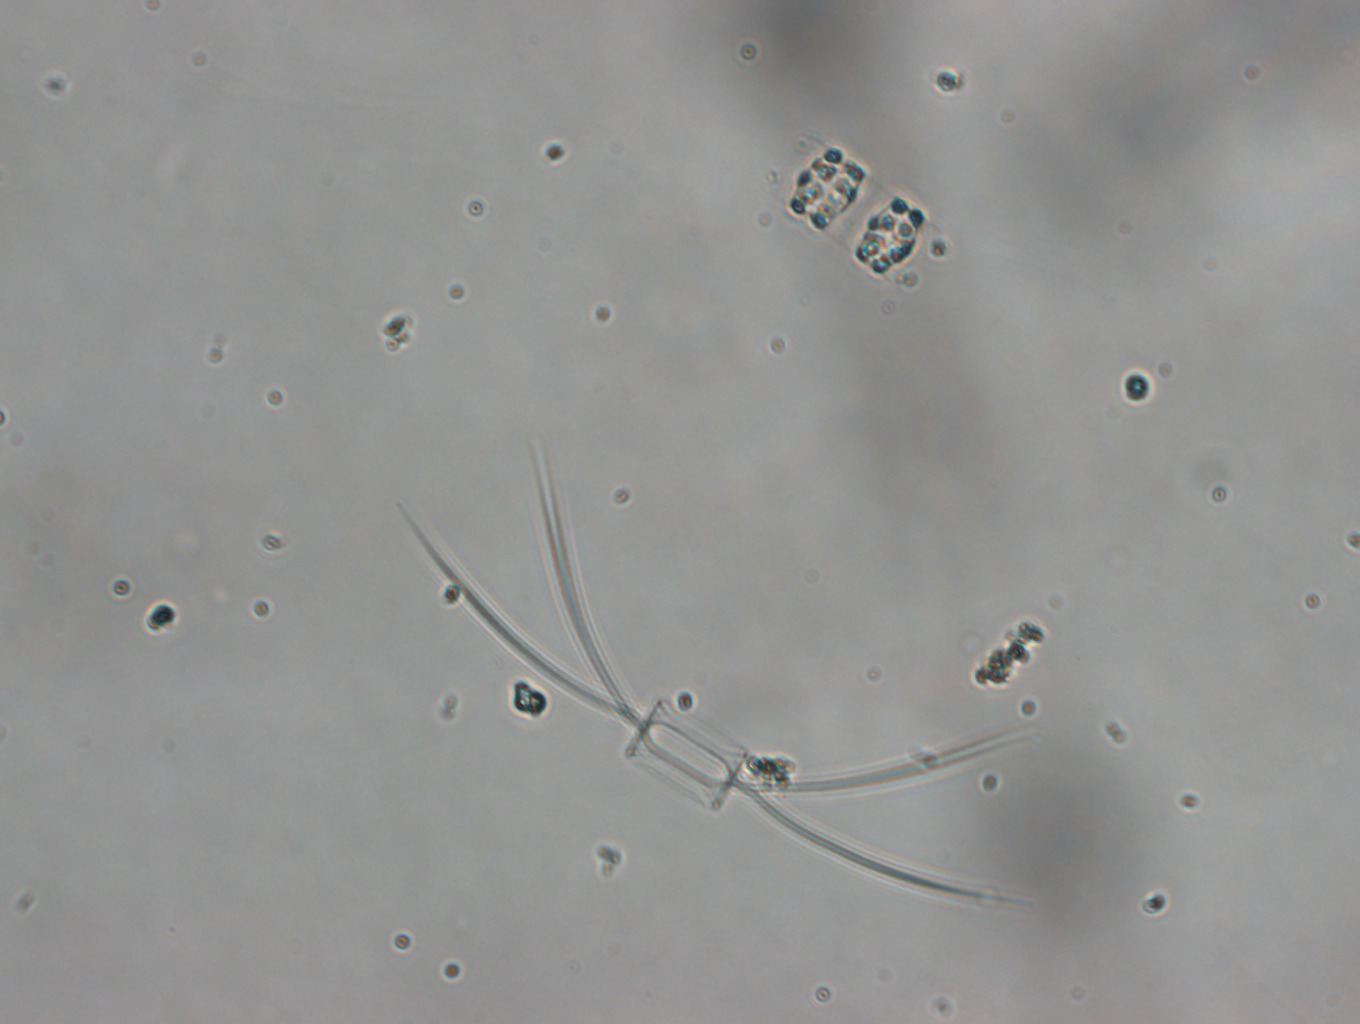chaetoceros: (395, 437, 1030, 909)
skeletonema: (781, 136, 946, 281)
